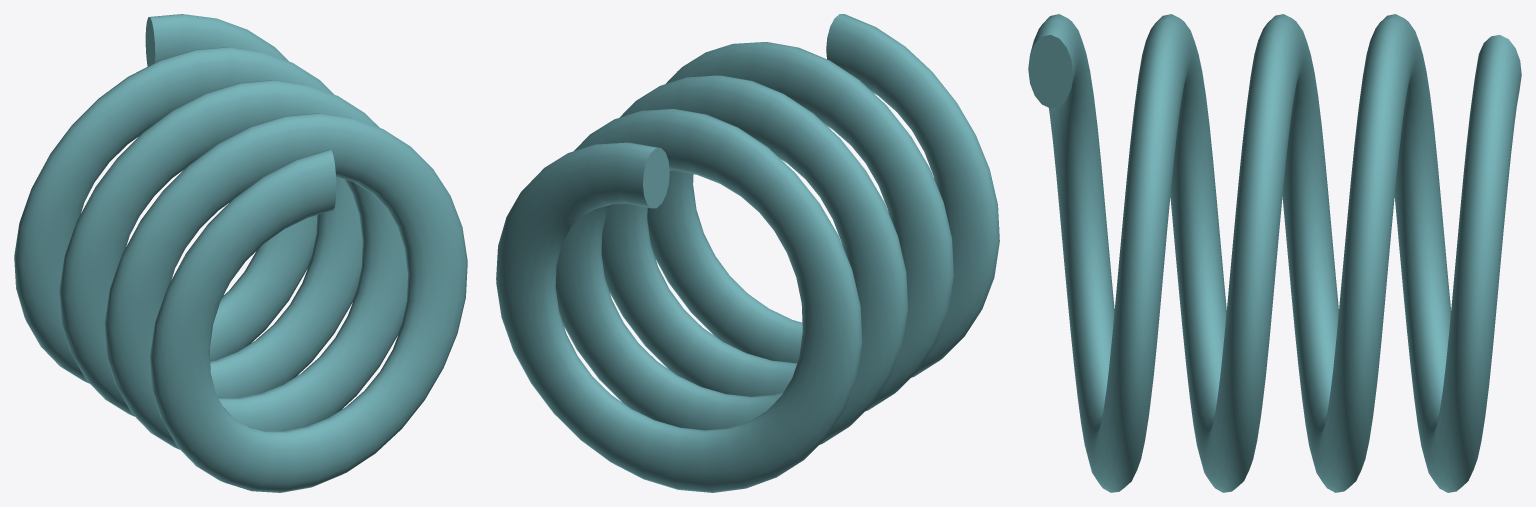
The model's file is spring.fbx.
The picture shows the model from 3 angles, left to right: view 1: azimuth 30°, elevation 25°; view 2: azimuth 150°, elevation 25°; view 3: azimuth 270°, elevation 25°; orthographic projection. The views are drawn at different scales.
Visible parts, largest first — view 1: spring; view 2: spring; view 3: spring.
Part boxes in pixels (left/top/right/bottom): spring: left=14, top=14, right=467, bottom=492; spring: left=496, top=14, right=999, bottom=492; spring: left=1028, top=14, right=1521, bottom=492.
Size of the model in its own units: 0.976 by 0.9988 by 0.976.
